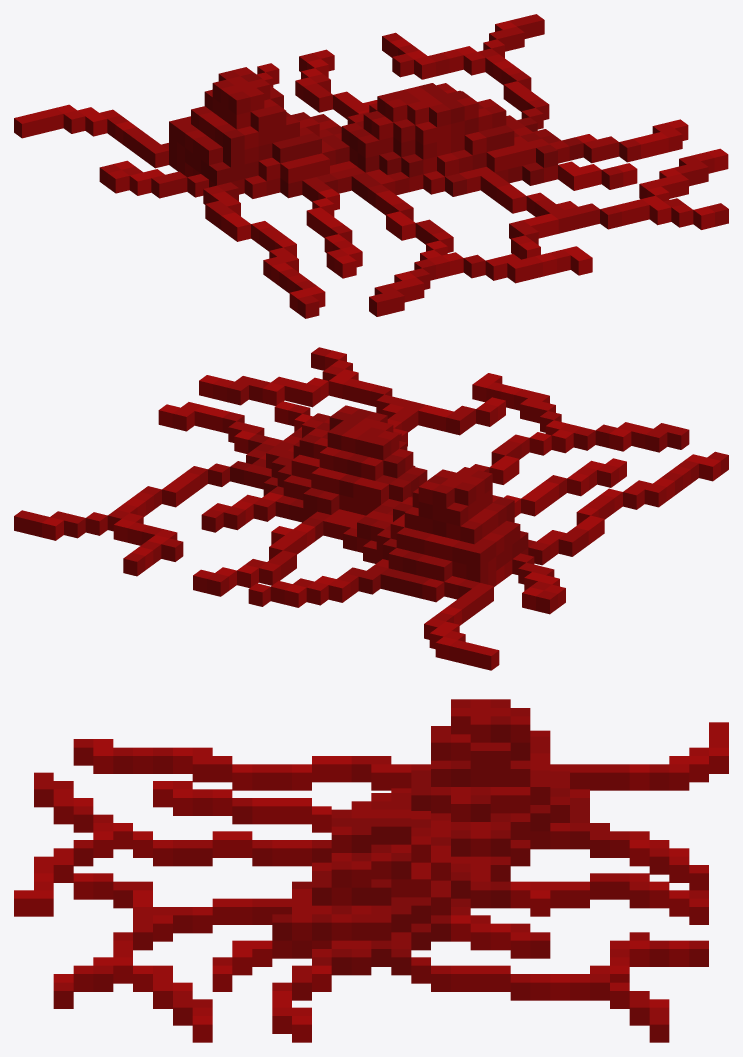
The model's file is Bines-6.obj.
3 views of the same model, one above another, from view 1: azimuth 30°, elevation 25°; view 2: azimuth 150°, elevation 25°; view 3: azimuth 270°, elevation 25° (orthographic). The views are drawn at different scales.
Bounding box in the file's own units: 3.6 × 0.6 × 3.6.
Materials: 1 (1 with a texture image).
